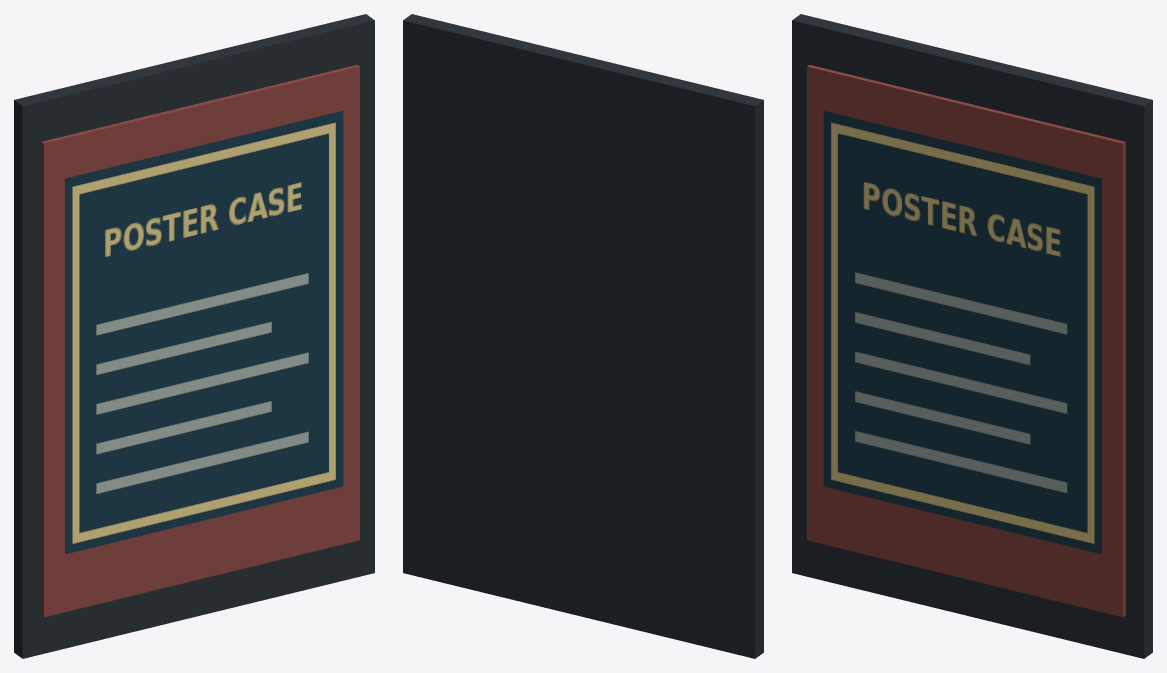
The model's file is poster_case.glb.
3 views of the same model, side by side, from view 1: azimuth 30°, elevation 25°; view 2: azimuth 150°, elevation 25°; view 3: azimuth 330°, elevation 25° (orthographic).
Visible parts, largest first — view 1: printed_surface, body; view 2: body; view 3: printed_surface, body.
Part boxes in pixels (left/top/right/bottom): printed_surface: left=65, top=111, right=343, bottom=554; body: left=14, top=14, right=374, bottom=658; body: left=403, top=14, right=763, bottom=658; printed_surface: left=823, top=111, right=1101, bottom=554; body: left=792, top=14, right=1152, bottom=658.
Size of the model in its own units: 0.784 by 1.18 by 0.0542.
2 materials, 2 textured.
